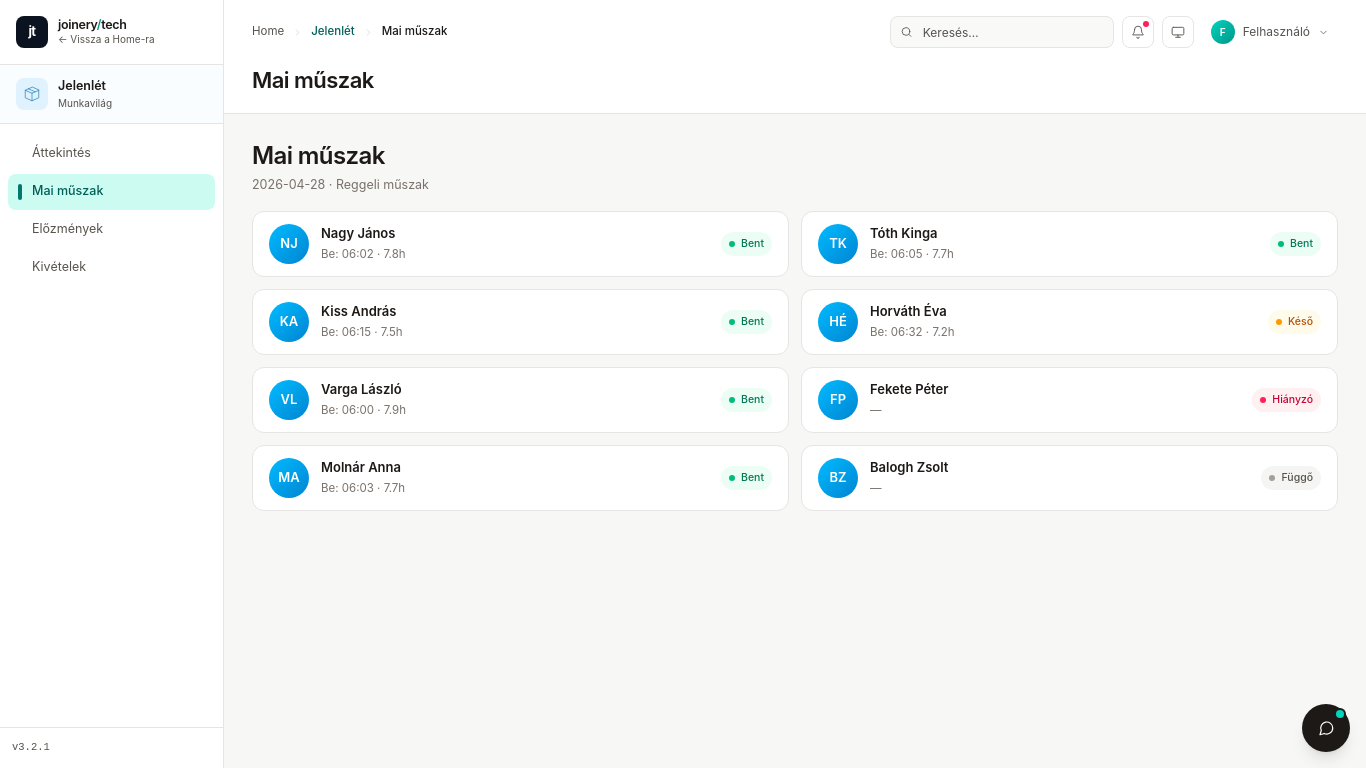
Test case: AttendancePage › clicking employee opens SlideOver
What coordinates should you click on to do the following:
click the text "Nagy János"
I would click on:
 (358, 233)
Its box is [321,225,395,241].
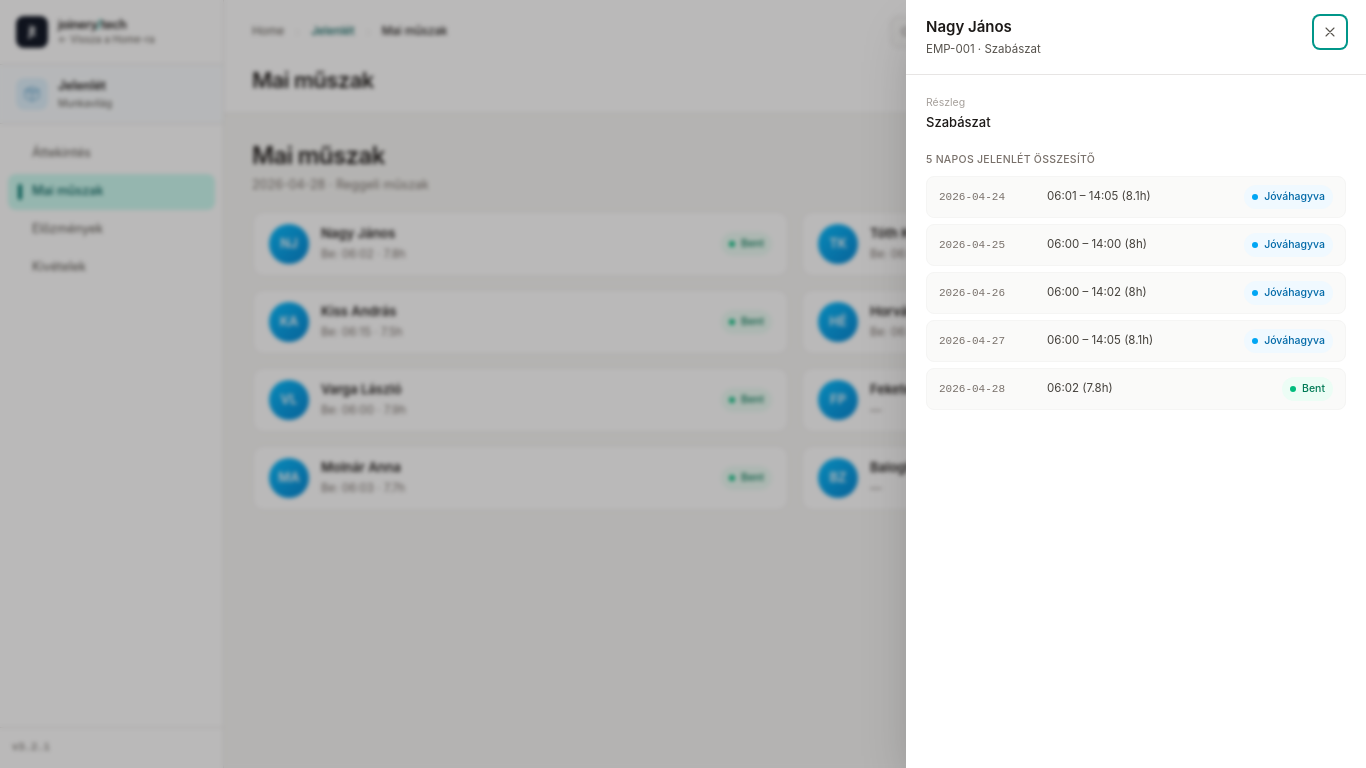
expect the text "EMP-001 · Szabászat" is shown: met, box [926,42,1041,56]
